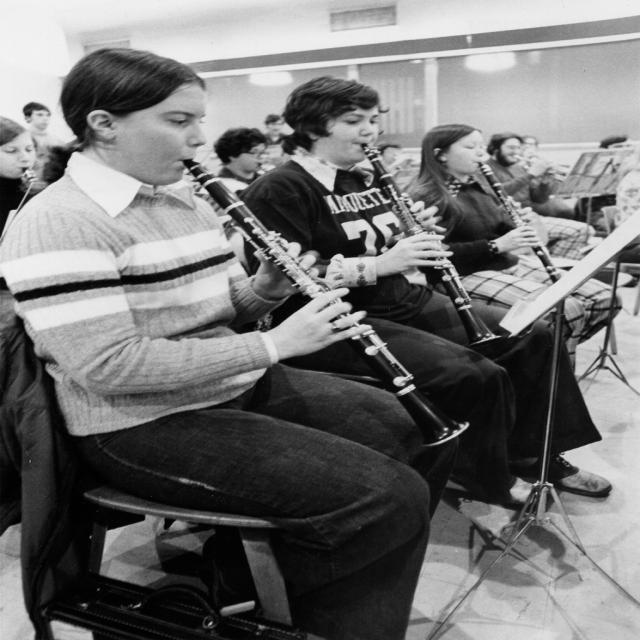clarinet: (173, 153, 471, 451), (356, 145, 504, 350), (474, 159, 562, 283)
